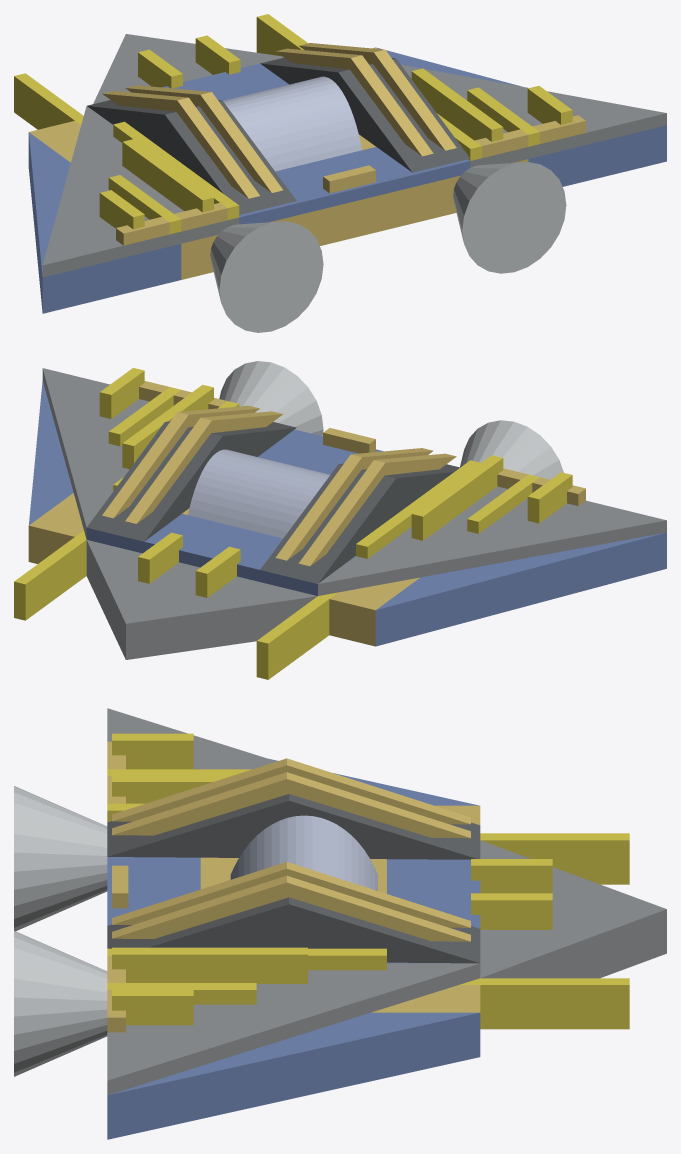
File: tinker_ship_armored.glb
The picture shows the model from 3 angles, top to bottom: view 1: azimuth 30°, elevation 25°; view 2: azimuth 150°, elevation 25°; view 3: azimuth 270°, elevation 25°; orthographic projection. The views are drawn at different scales.
Visible parts, largest first — view 1: Mesh_Mesh_head_geo.001_lambert2SG.001; view 2: Mesh_Mesh_head_geo.001_lambert2SG.001; view 3: Mesh_Mesh_head_geo.001_lambert2SG.001.
Part boxes in pixels (<box>): Mesh_Mesh_head_geo.001_lambert2SG.001: <box>14,14,666,332</box>; Mesh_Mesh_head_geo.001_lambert2SG.001: <box>14,361,666,679</box>; Mesh_Mesh_head_geo.001_lambert2SG.001: <box>14,708,666,1139</box>.
Bounding box in the file's own units: 54 × 12 × 40.
